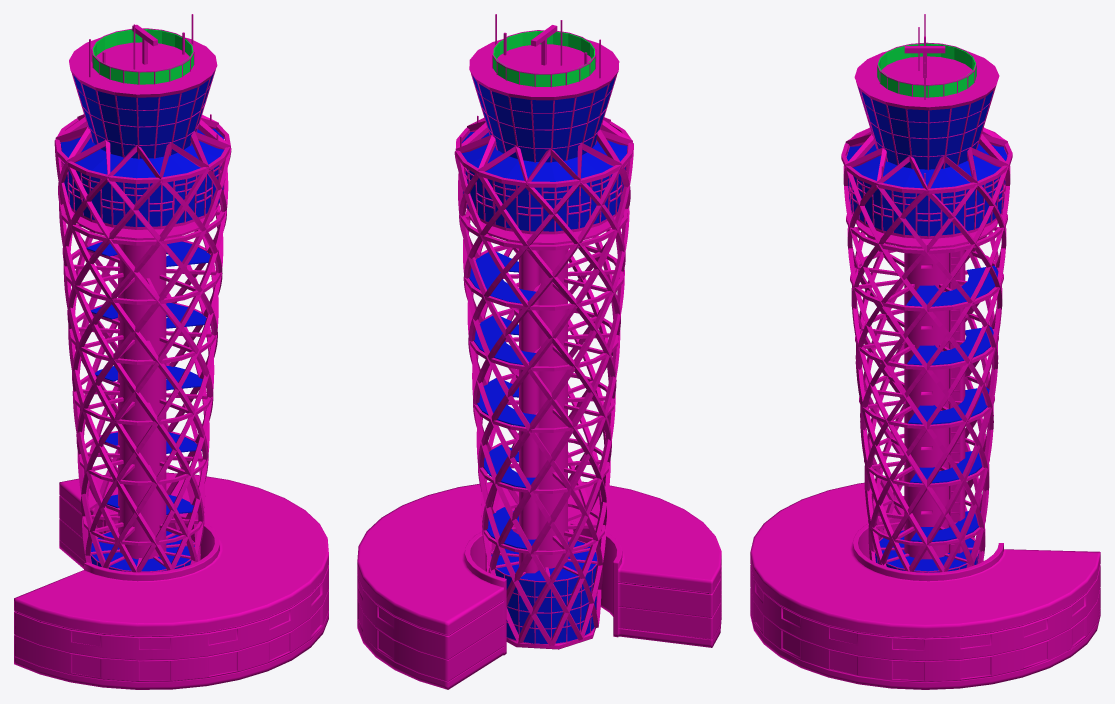
Rendered from towerskfab.fbx.
The picture shows the model from 3 angles, left to right: view 1: azimuth 30°, elevation 25°; view 2: azimuth 150°, elevation 25°; view 3: azimuth 270°, elevation 25°; orthographic projection. The views are drawn at different scales.
Parts seen in each view (by area): view 1: Cylinder, BezierCircle.026, BezierCircle.013; view 2: Cylinder, BezierCircle.026, BezierCircle.013; view 3: Cylinder, BezierCircle.026, BezierCircle.013.
Boxes of the visible parts, x1,y1,x2,y2 form: Cylinder: [14, 14, 328, 689]; BezierCircle.026: [60, 73, 223, 571]; BezierCircle.013: [92, 29, 193, 84]; Cylinder: [357, 14, 721, 689]; BezierCircle.026: [461, 76, 627, 643]; BezierCircle.013: [493, 31, 595, 86]; Cylinder: [750, 14, 1100, 689]; BezierCircle.026: [846, 87, 1007, 572]; BezierCircle.013: [877, 43, 976, 97].
Size of the model in its own units: 2078 by 3845 by 2098.
